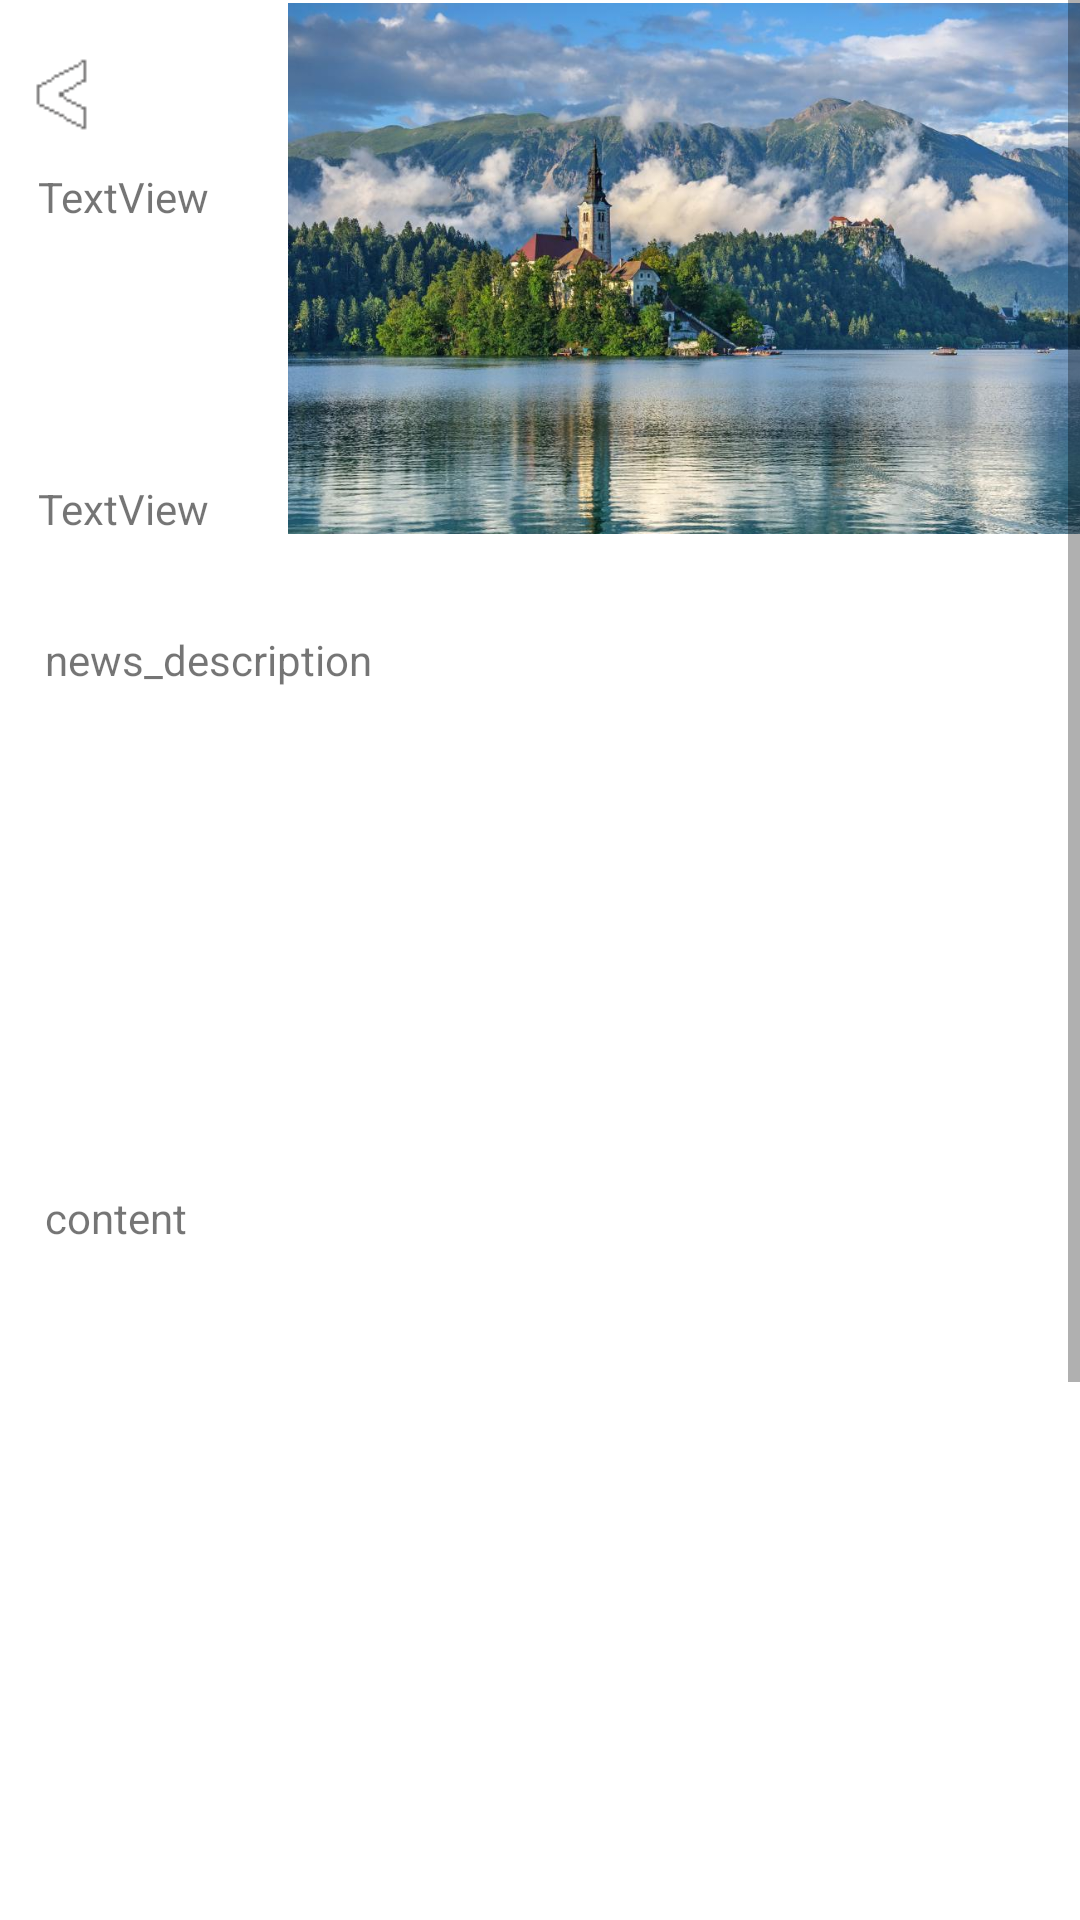

Icon bounding boxes for this 1080px x 1920px phone screenshot, format [x1=x1, y1=y1, x2=x2, y2=y2]:
back: [x1=36, y1=59, x2=87, y2=130]
